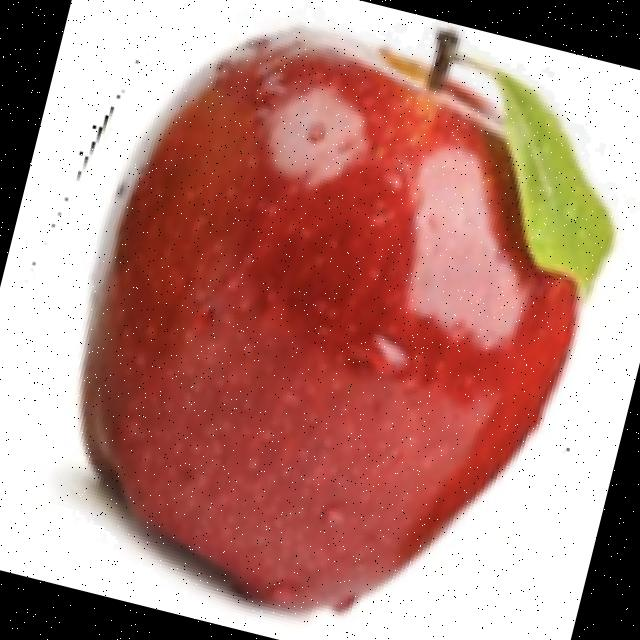apple: (47, 0, 640, 628)
